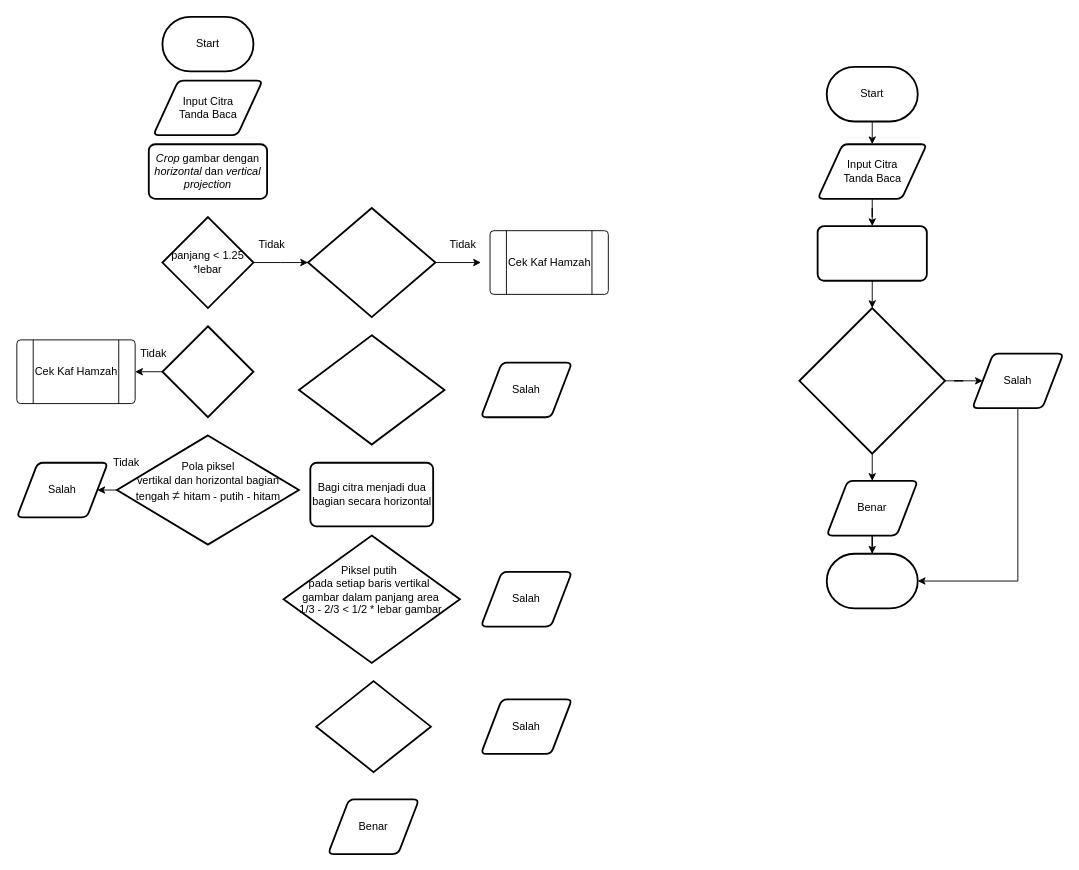
This 1079x870 diagram has some shape labels left out. Here are the shapes that lost their labels. From the top down, the centre of each, then its label:
At point (371, 262): "Pola piksel vertikal bagian tengah = putih - hitam - putih".
At point (871, 253): "Bagi citra menjadi dua bagian secara vertikal".
At point (207, 371): "lebar < 1.25 *panjang".
At point (371, 389): "Tidak ada piksel hitam setelah pola vertikal putih - hitam - putih".
At point (871, 380): "Pola piksel vertikal bagian tengah pada dua gambar = hitam - putih - hitam".
At point (871, 580): "Stop".
At point (373, 726): "Piksel awal dan akhir pada bagian tengah = hitam".
